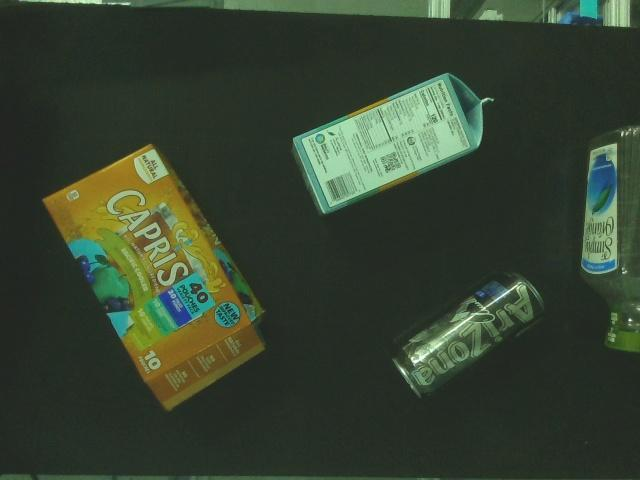cardboard: (38, 142, 270, 412), (289, 68, 498, 220)
metal: (388, 266, 550, 402)
plastic: (576, 122, 640, 360)
